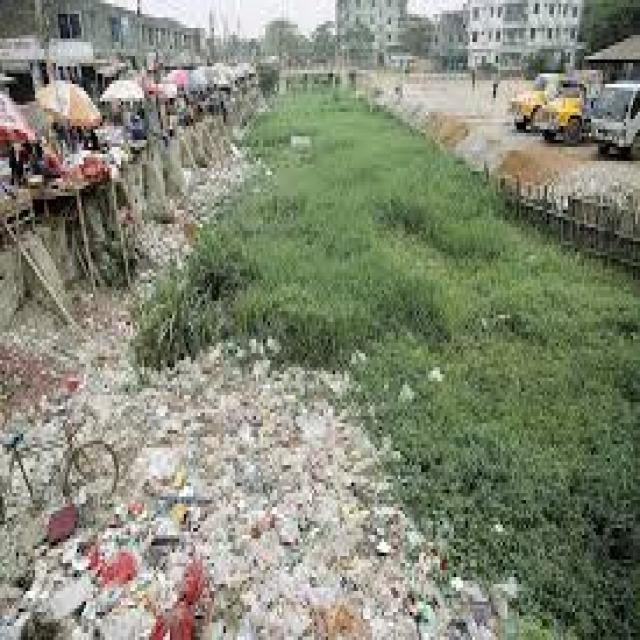heap: (162, 403, 353, 589)
